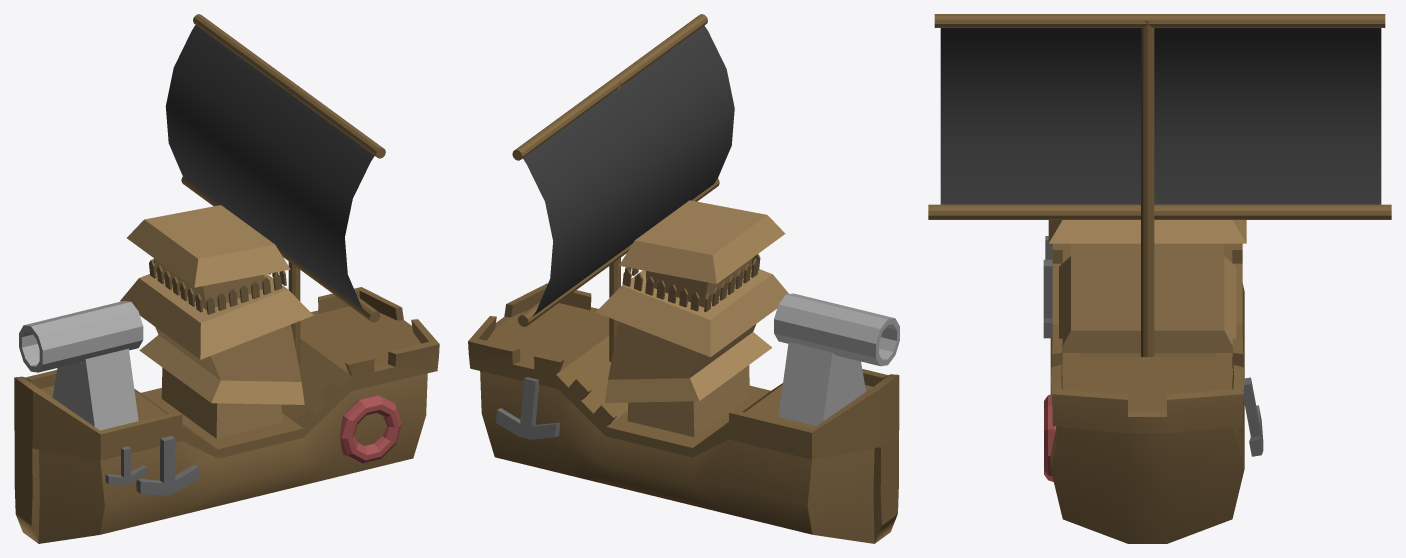
The model's file is Boat.fbx.
3 renders of one model, left to right at view 1: azimuth 30°, elevation 25°; view 2: azimuth 150°, elevation 25°; view 3: azimuth 270°, elevation 25°, orthographic. The views are drawn at different scales.
Visible parts, largest first — view 1: Boat_Base1, Sail, Tower1, Cannon1, pTorus1, Anchors, Wood_Planks1; view 2: Boat_Base1, Sail, Tower1, Cannon1, Wood_Planks1, Anchors; view 3: Sail, Boat_Base1, Tower1, Anchors, pTorus1.
Boxes of the visible parts, left/top/right/bottom form: Boat_Base1: left=14, top=287, right=439, bottom=543; Sail: left=165, top=14, right=385, bottom=364; Tower1: left=120, top=205, right=313, bottom=438; Cannon1: left=19, top=301, right=143, bottom=430; pTorus1: left=339, top=395, right=401, bottom=463; Anchors: left=105, top=436, right=198, bottom=495; Wood_Planks1: left=149, top=258, right=286, bottom=314; Boat_Base1: left=468, top=283, right=899, bottom=543; Sail: left=512, top=14, right=734, bottom=361; Tower1: left=596, top=200, right=788, bottom=437; Cannon1: left=774, top=293, right=899, bottom=425; Wood_Planks1: left=622, top=254, right=760, bottom=311; Anchors: left=496, top=377, right=560, bottom=439; Sail: left=928, top=14, right=1391, bottom=356; Boat_Base1: left=1050, top=243, right=1244, bottom=543; Tower1: left=1048, top=220, right=1246, bottom=356; Anchors: left=1043, top=236, right=1263, bottom=456; pTorus1: left=1044, top=394, right=1055, bottom=481.
Bounding box in the file's own units: 261 × 249 × 219.
